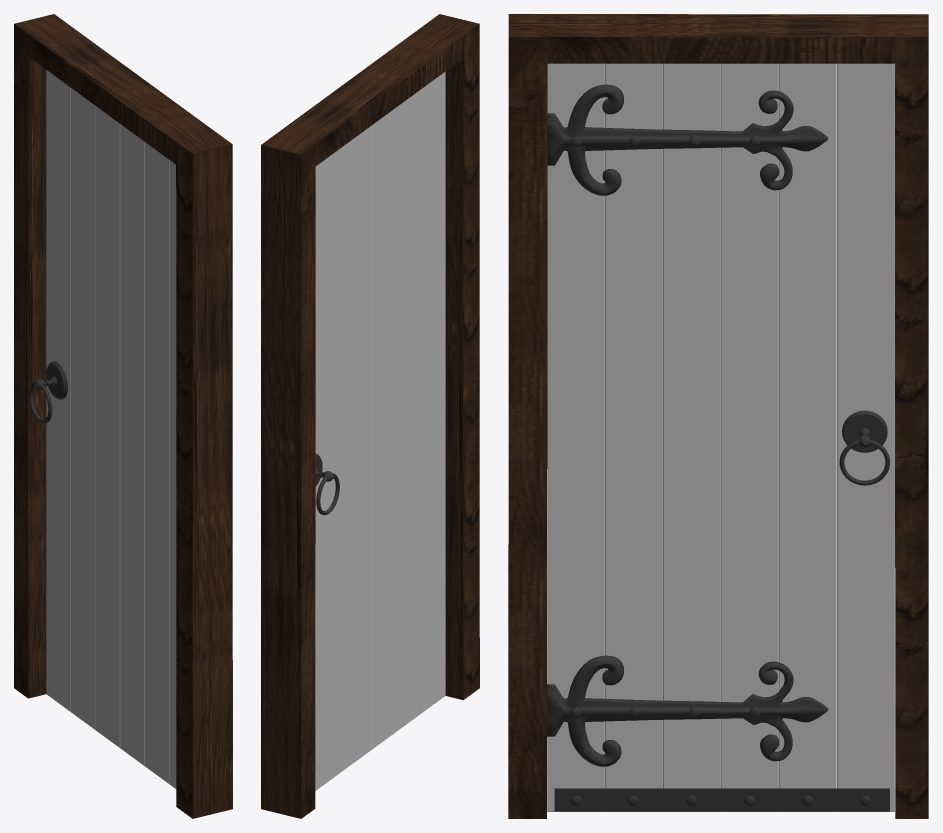
Rendered from old door4.FBX.
3 renders of one model, left to right at view 1: azimuth 30°, elevation 25°; view 2: azimuth 150°, elevation 25°; view 3: azimuth 270°, elevation 25°, orthographic. The views are drawn at different scales.
Parts seen in each view (by area): view 1: old door 4 (×2); view 2: old door 4 (×2); view 3: old door 4 (×2).
Part boxes in pixels (x1,y1,x2,y2): old door 4 (×2): (14,14,232,818); old door 4 (×2): (261,14,479,818); old door 4 (×2): (508,14,928,818).
Size of the model in its own units: 217 by 1161 by 2384.
